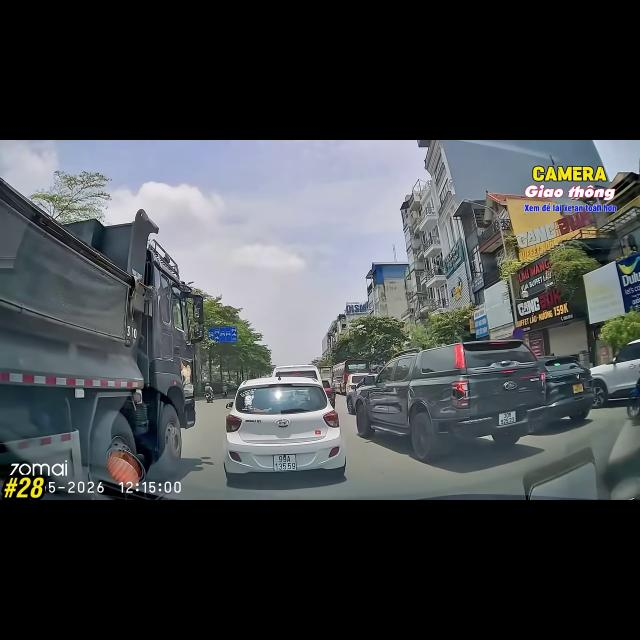car: (356, 340, 544, 462), (224, 377, 346, 482), (530, 356, 594, 432), (590, 340, 639, 407), (346, 373, 369, 414), (272, 365, 321, 381), (321, 379, 335, 408)
motorcycle: (627, 380, 639, 422), (205, 393, 212, 402), (223, 391, 227, 398)
truck: (0, 179, 203, 486), (317, 366, 332, 380)
